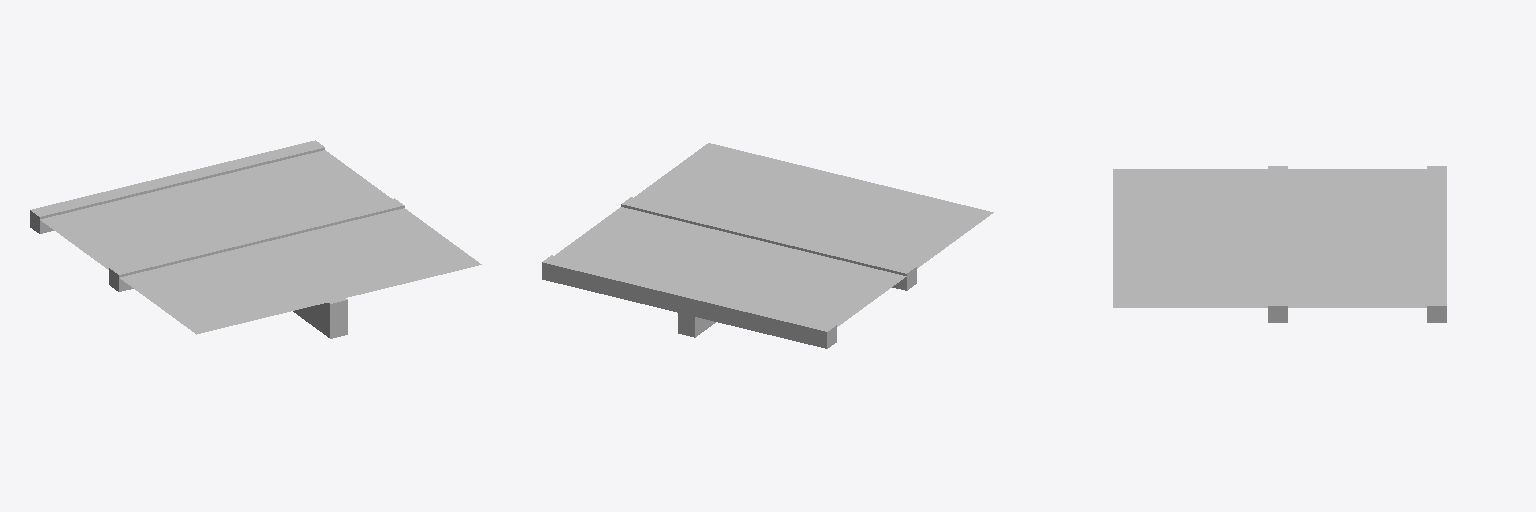
The model's file is Overhang_Roof_Wood.obj.
The picture shows the model from 3 angles: view 1: azimuth 30°, elevation 25°; view 2: azimuth 150°, elevation 25°; view 3: azimuth 270°, elevation 25°; orthographic projection.
Parts seen in each view (by area): view 1: Overhang_Roof_Wood; view 2: Overhang_Roof_Wood; view 3: Overhang_Roof_Wood.
Boxes of the visible parts, box(x1,y1,x2,y2) form: Overhang_Roof_Wood: box(30, 140, 481, 338); Overhang_Roof_Wood: box(542, 143, 993, 348); Overhang_Roof_Wood: box(1113, 166, 1446, 322).
Size of the model in its own units: 2 by 0.2659 by 2.02.